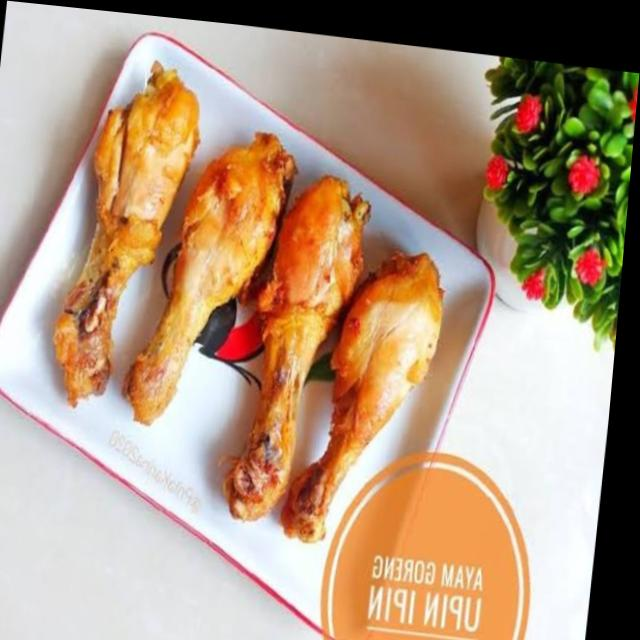CHICKEN FRY: (47, 68, 449, 539)
